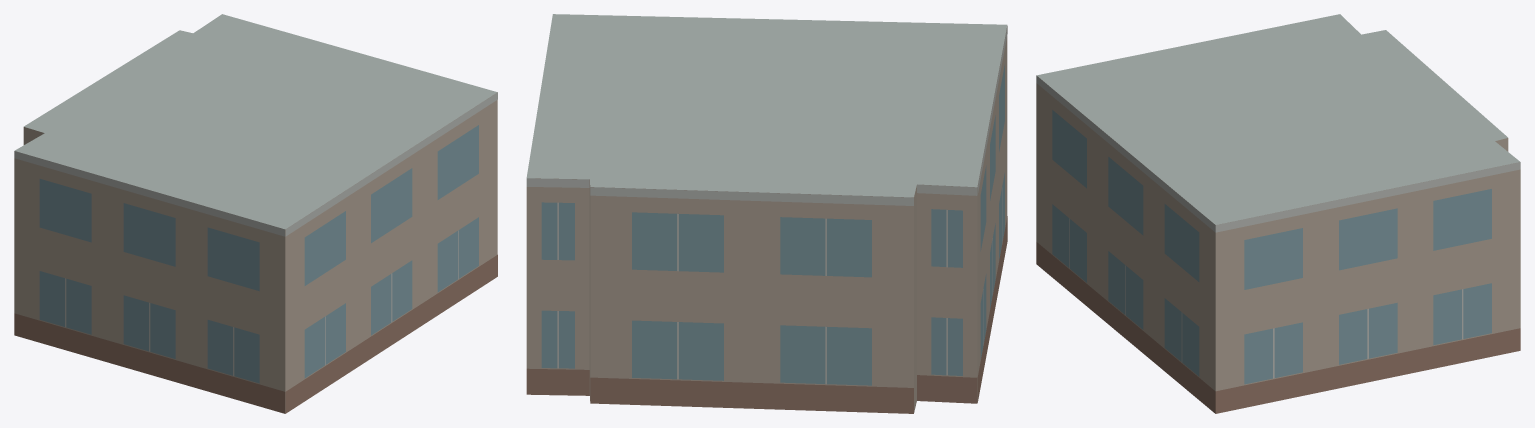
Rendered from survey-upis-32845530.glb.
3 renders of one model, left to right at view 1: azimuth 30°, elevation 25°; view 2: azimuth 150°, elevation 25°; view 3: azimuth 270°, elevation 25°, orthographic. The views are drawn at different scales.
Visible parts, largest first — view 1: survey-upis-32845530.tmp; view 2: survey-upis-32845530.tmp; view 3: survey-upis-32845530.tmp.
Boxes of the visible parts, box(x1,y1,x2,y2) form: survey-upis-32845530.tmp: box(14, 14, 497, 413); survey-upis-32845530.tmp: box(526, 14, 1007, 413); survey-upis-32845530.tmp: box(1036, 14, 1520, 413).
Size of the model in its own units: 14.64 by 6.1 by 14.19.
